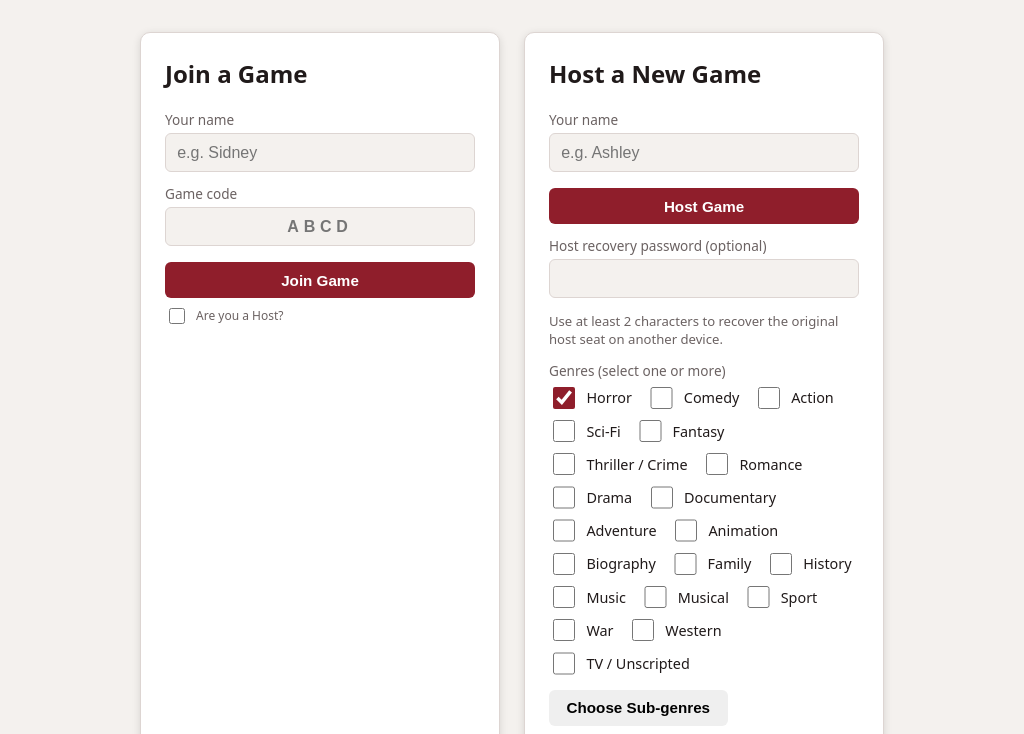
Scenario: Landing › allows the host to clear all genres but blocks hosting until one is selected
This screenshot has width=1024, height=734.
Step 1. Type "Ashley" into the field with placeholder "e.g. Ashley" below "Host a New Game" → (704, 152), box [549,133,859,172]
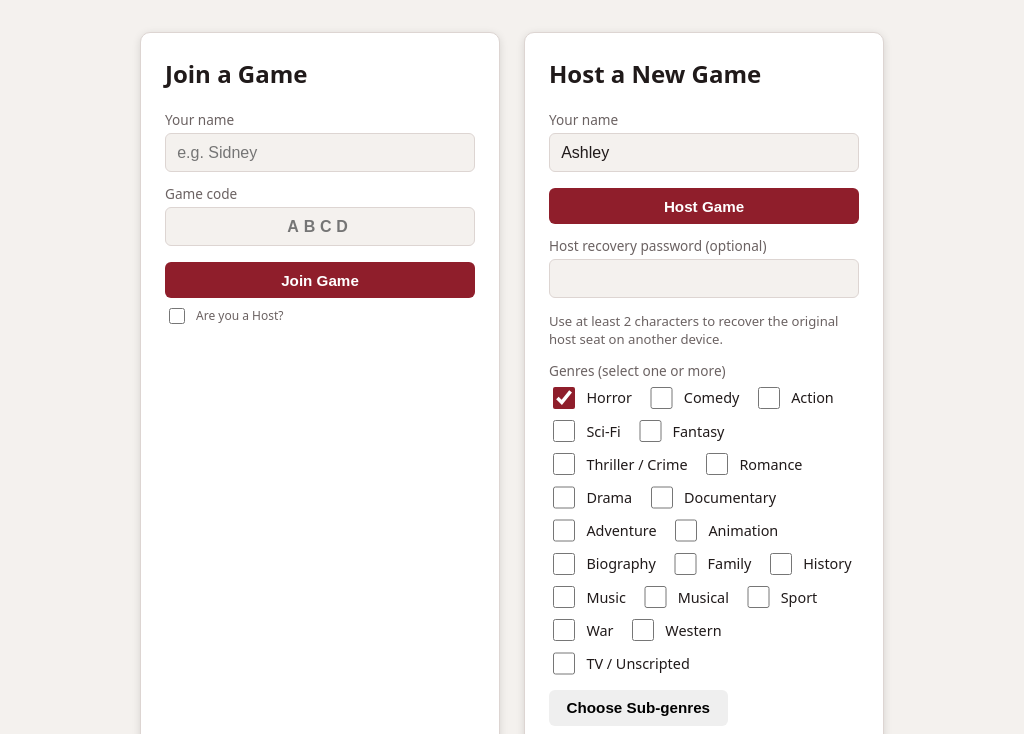
Step 2. Click the checkbox labelled "Horror" → click(564, 398), box [553,387,575,409]
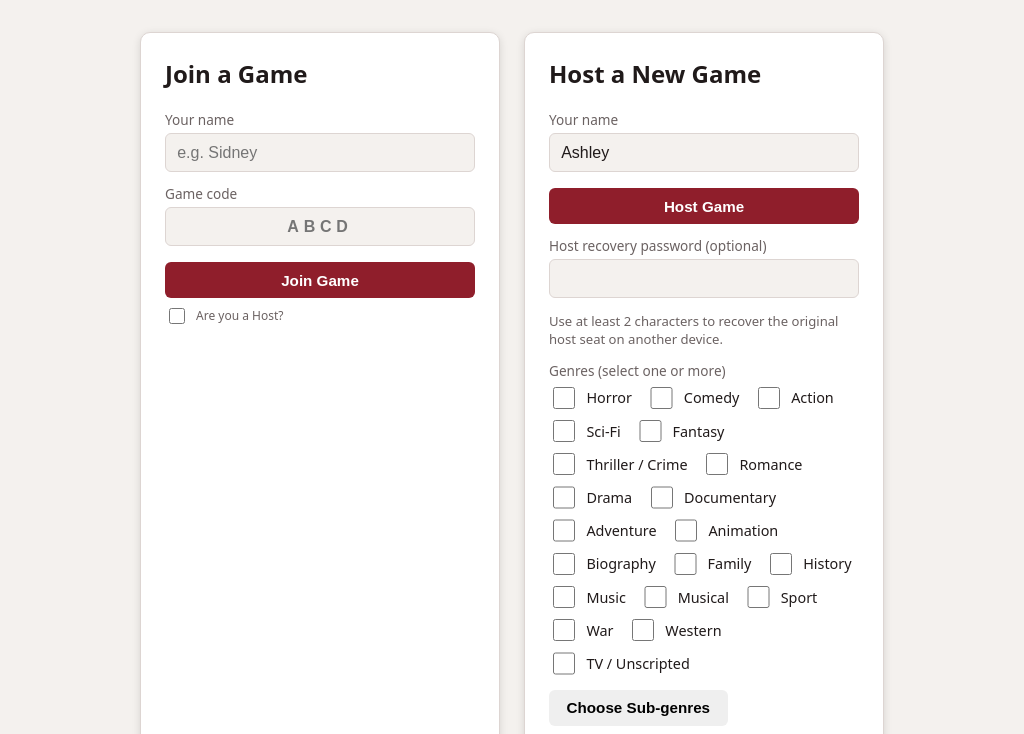
Step 3. Click the button "Host Game" → click(704, 206), box [549,188,859,224]
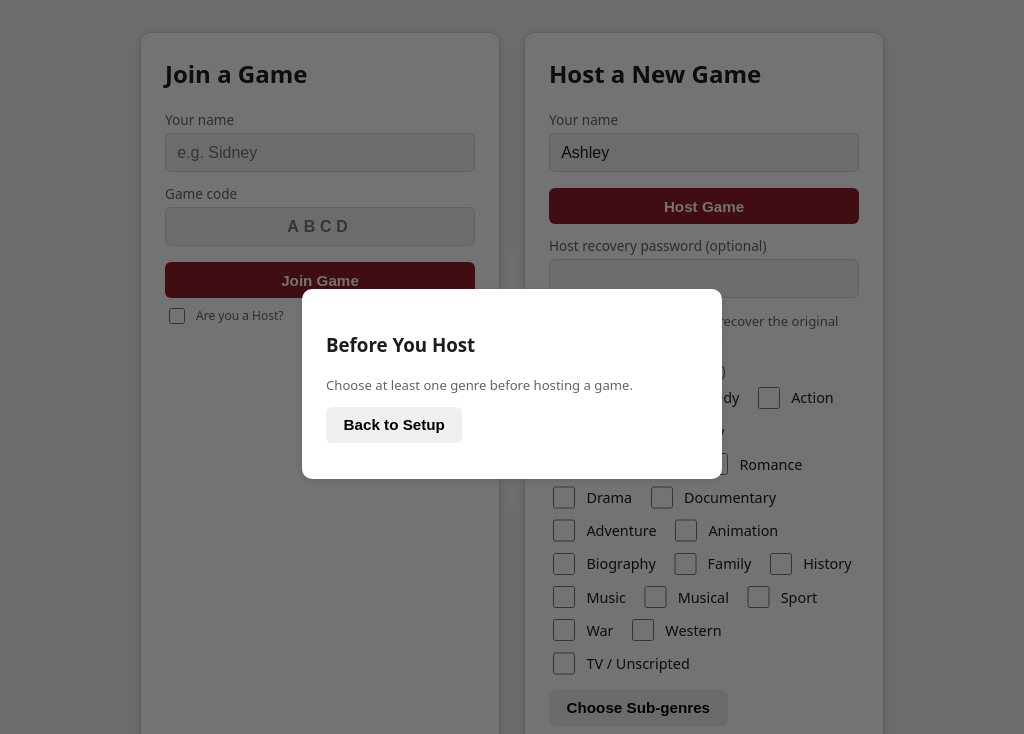
Check: the heading "Before You Host" is shown, box [326,332,475,357]
Check: the text "Choose at least one genre before hosting a game." is shown, box [326,376,633,394]
